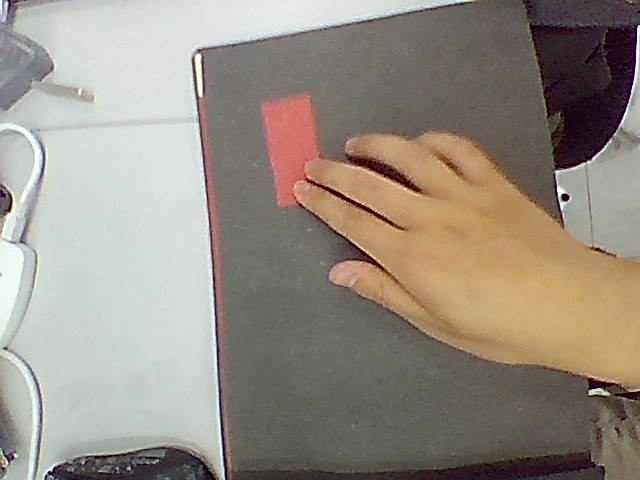card: (262, 95, 317, 205)
